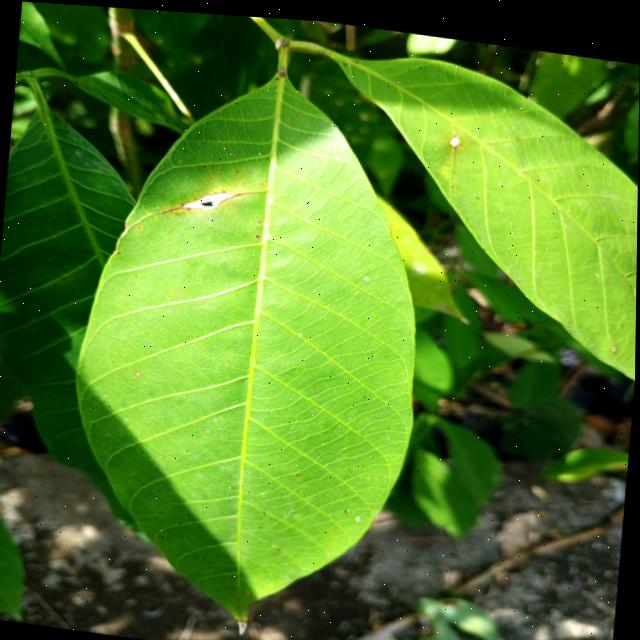Colletotrichum: (136, 369, 141, 373), (179, 288, 183, 291), (256, 231, 260, 234), (258, 217, 262, 219), (250, 168, 253, 170)
Corynespora: (160, 177, 253, 222)
